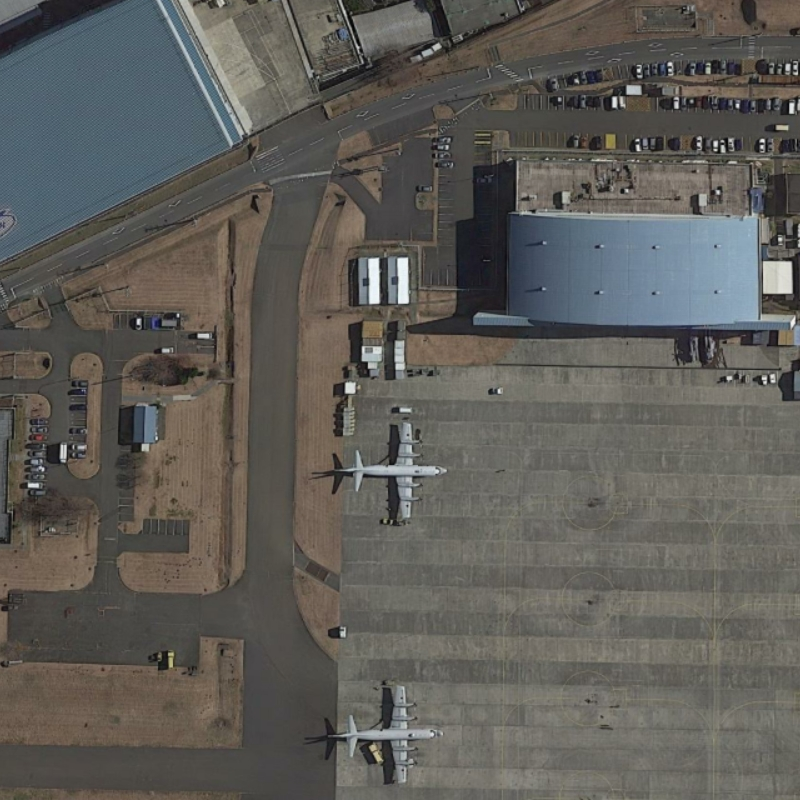A9: (329, 410, 456, 527), (320, 672, 444, 790)
